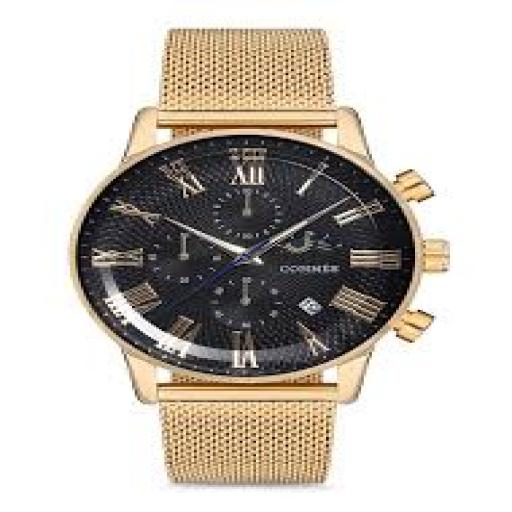KolSaati: (61, 26, 434, 484)
